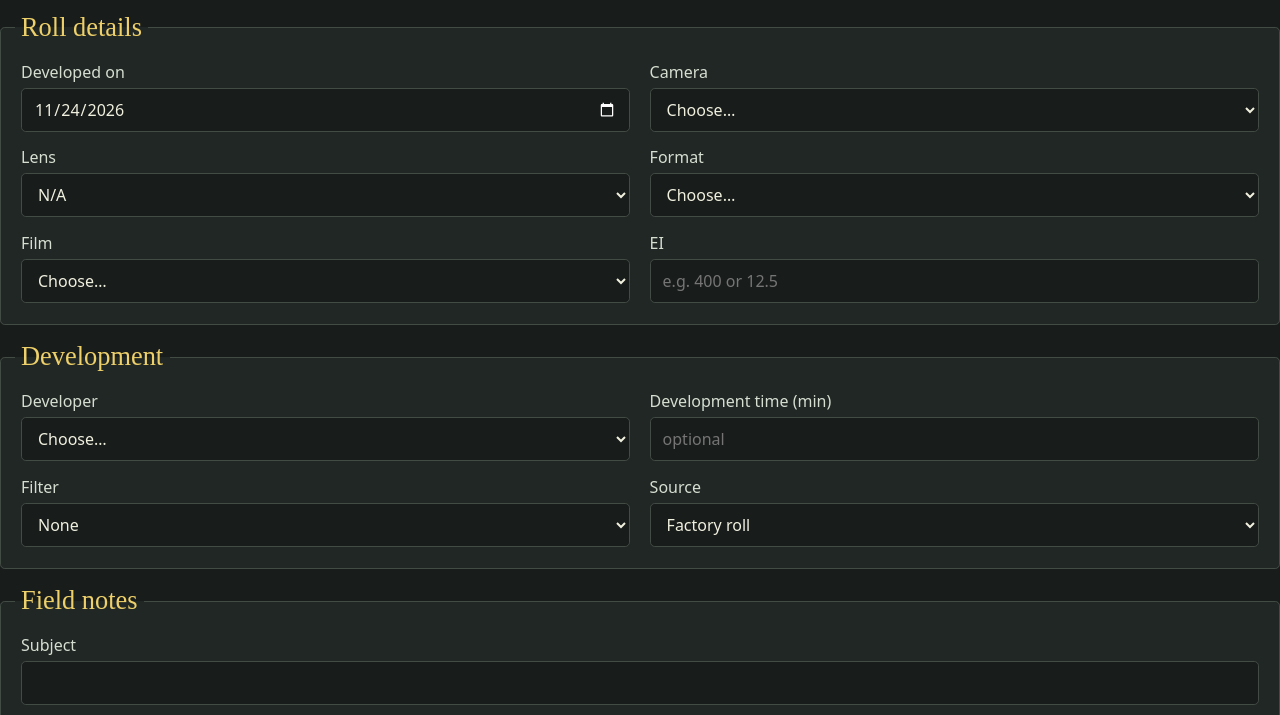
it: EI input accepts 12.5
Select "Tri-X" in the dropdown labelled "Film" at (326, 281), box [21, 259, 630, 303]
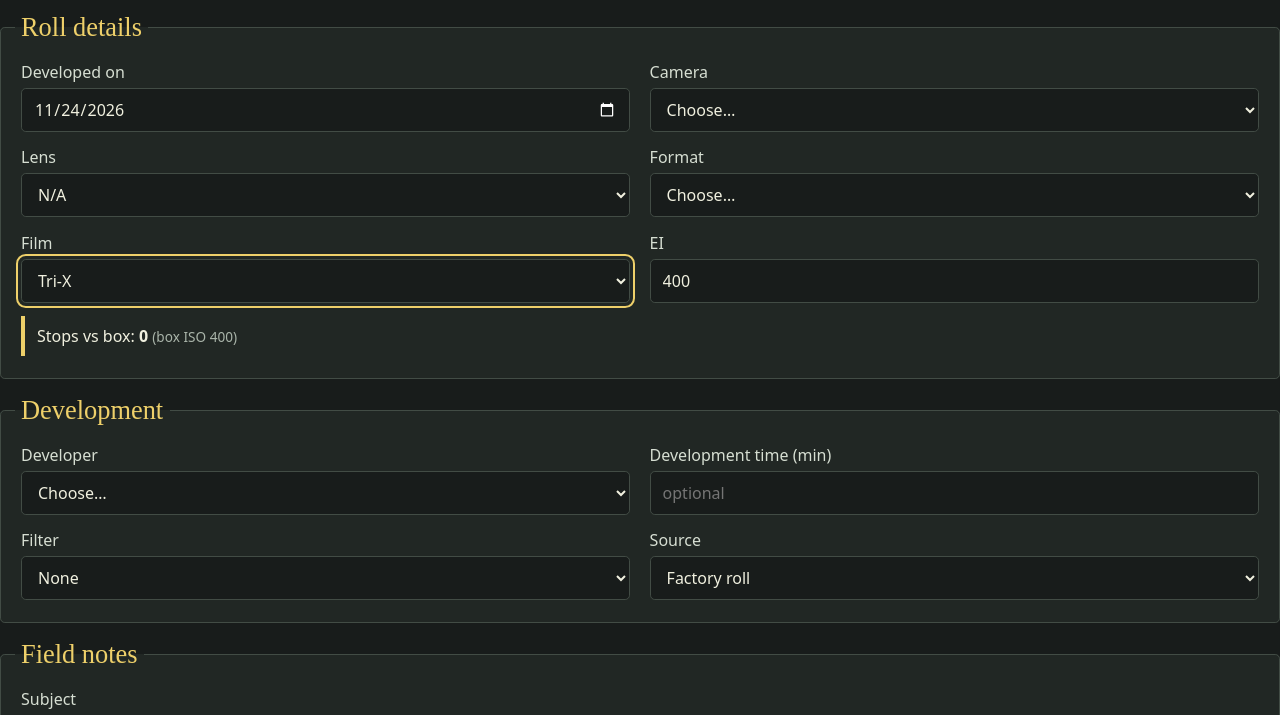
Replace the text in the field labelled "EI" with "12.5" at (954, 281), box [650, 259, 1259, 303]
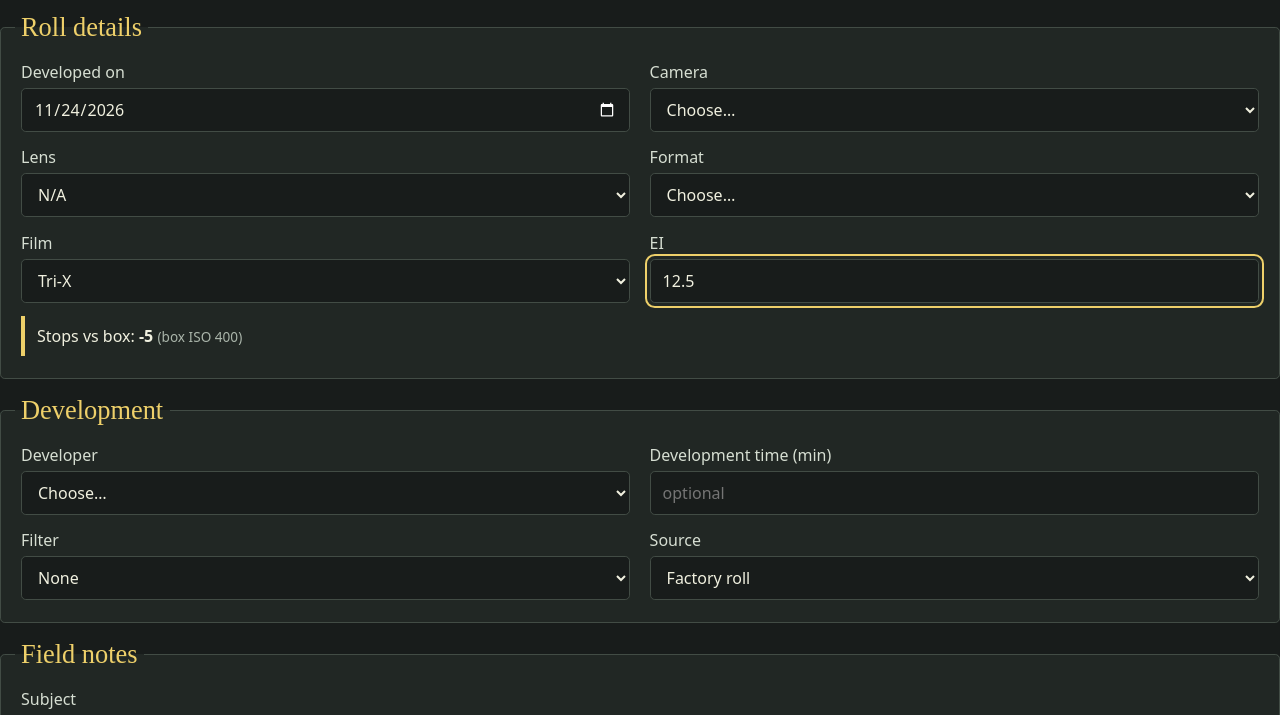
expect the text "Stops vs box: -5 (box ISO 400)" is shown: met, box [21, 316, 1259, 356]
